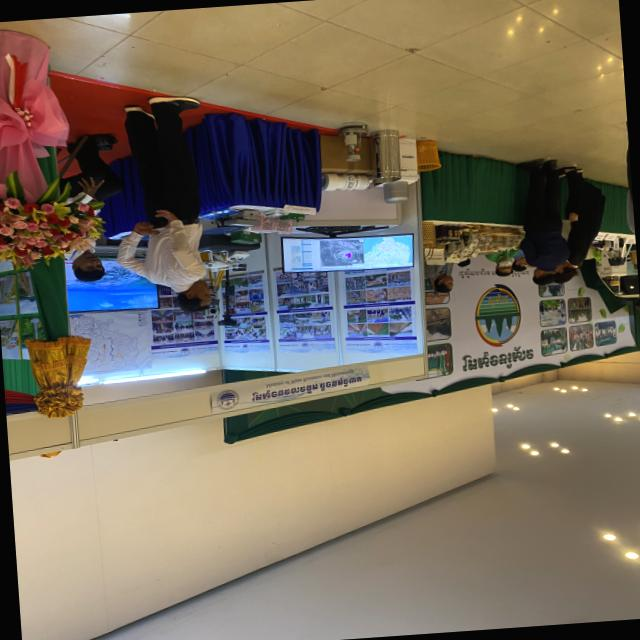1: (248, 373, 364, 404)
Yolov11_80vkh: (459, 341, 538, 376), (456, 266, 493, 280), (484, 293, 513, 308)
